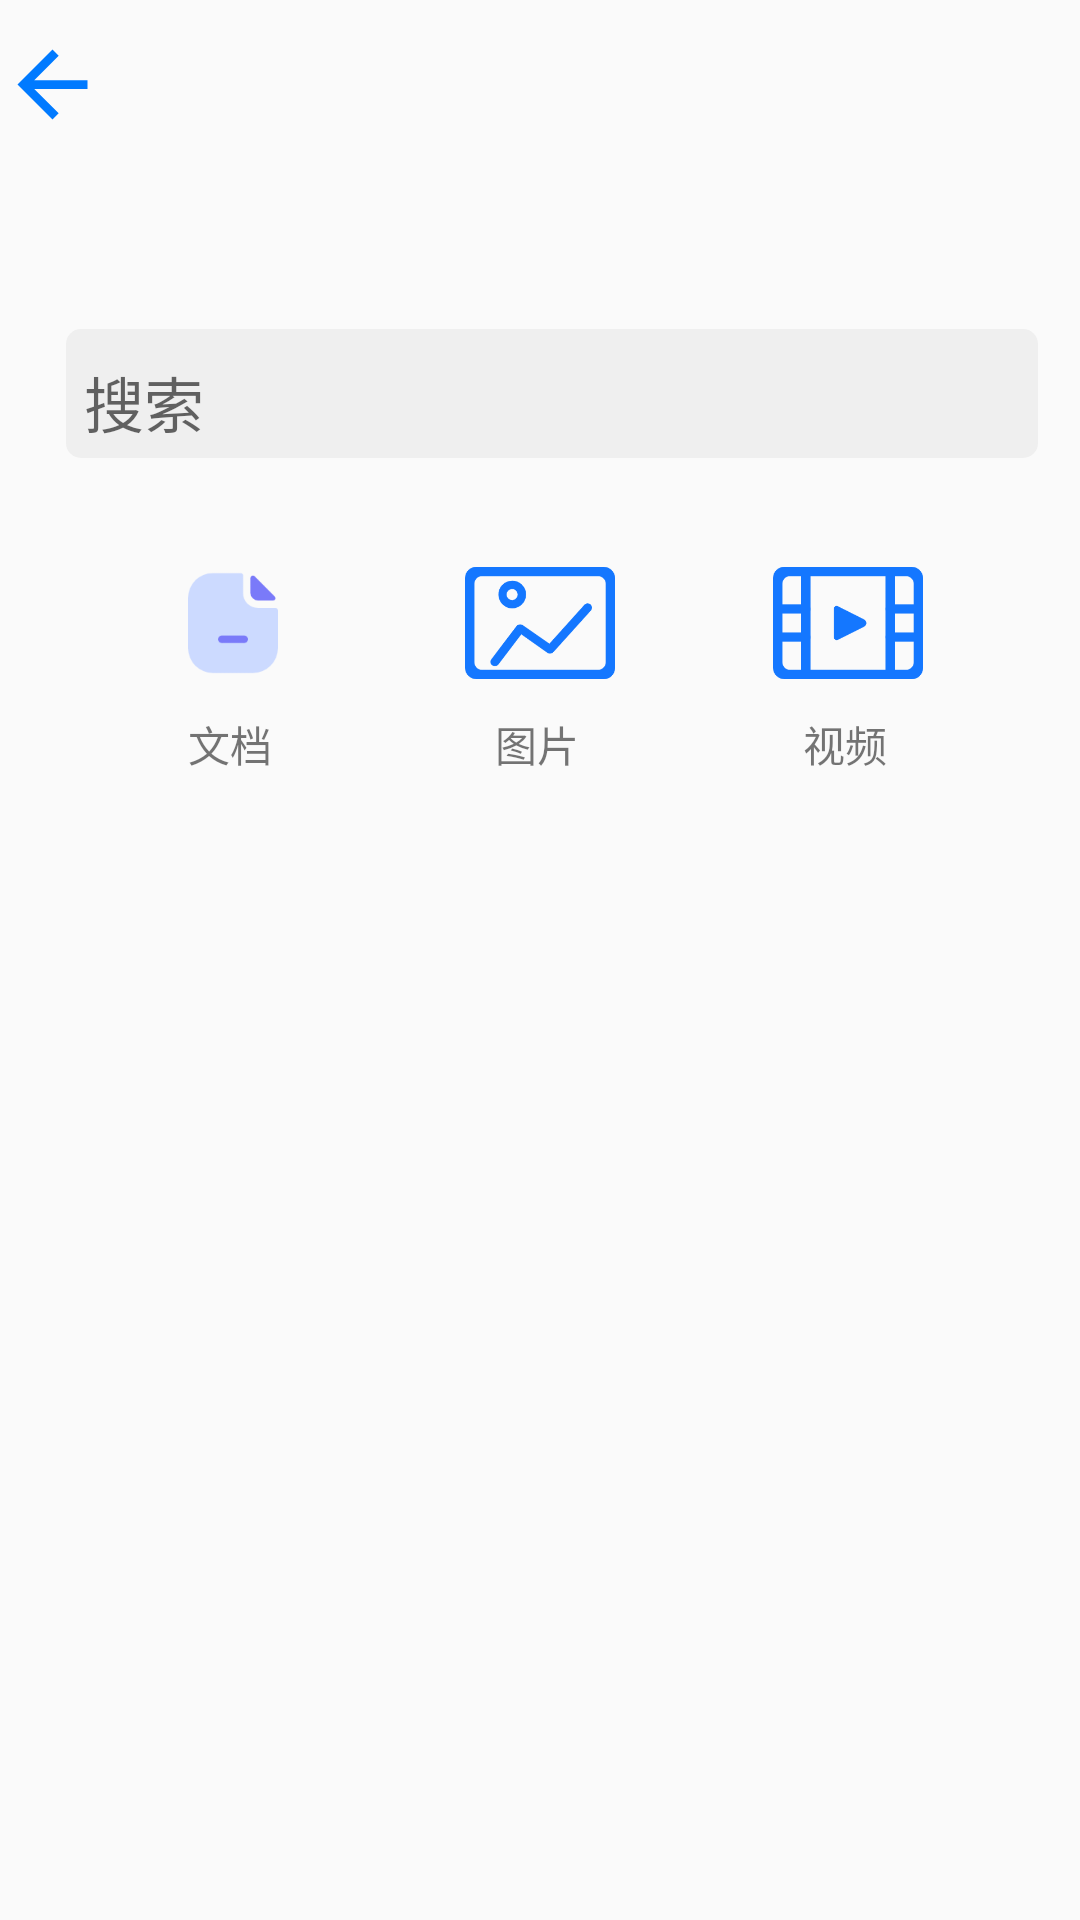

Screen size 1080px x 1920px. Icon name, then its center in pixels as [x,y]:
arrow back: [52,84]
document: [233,623]
